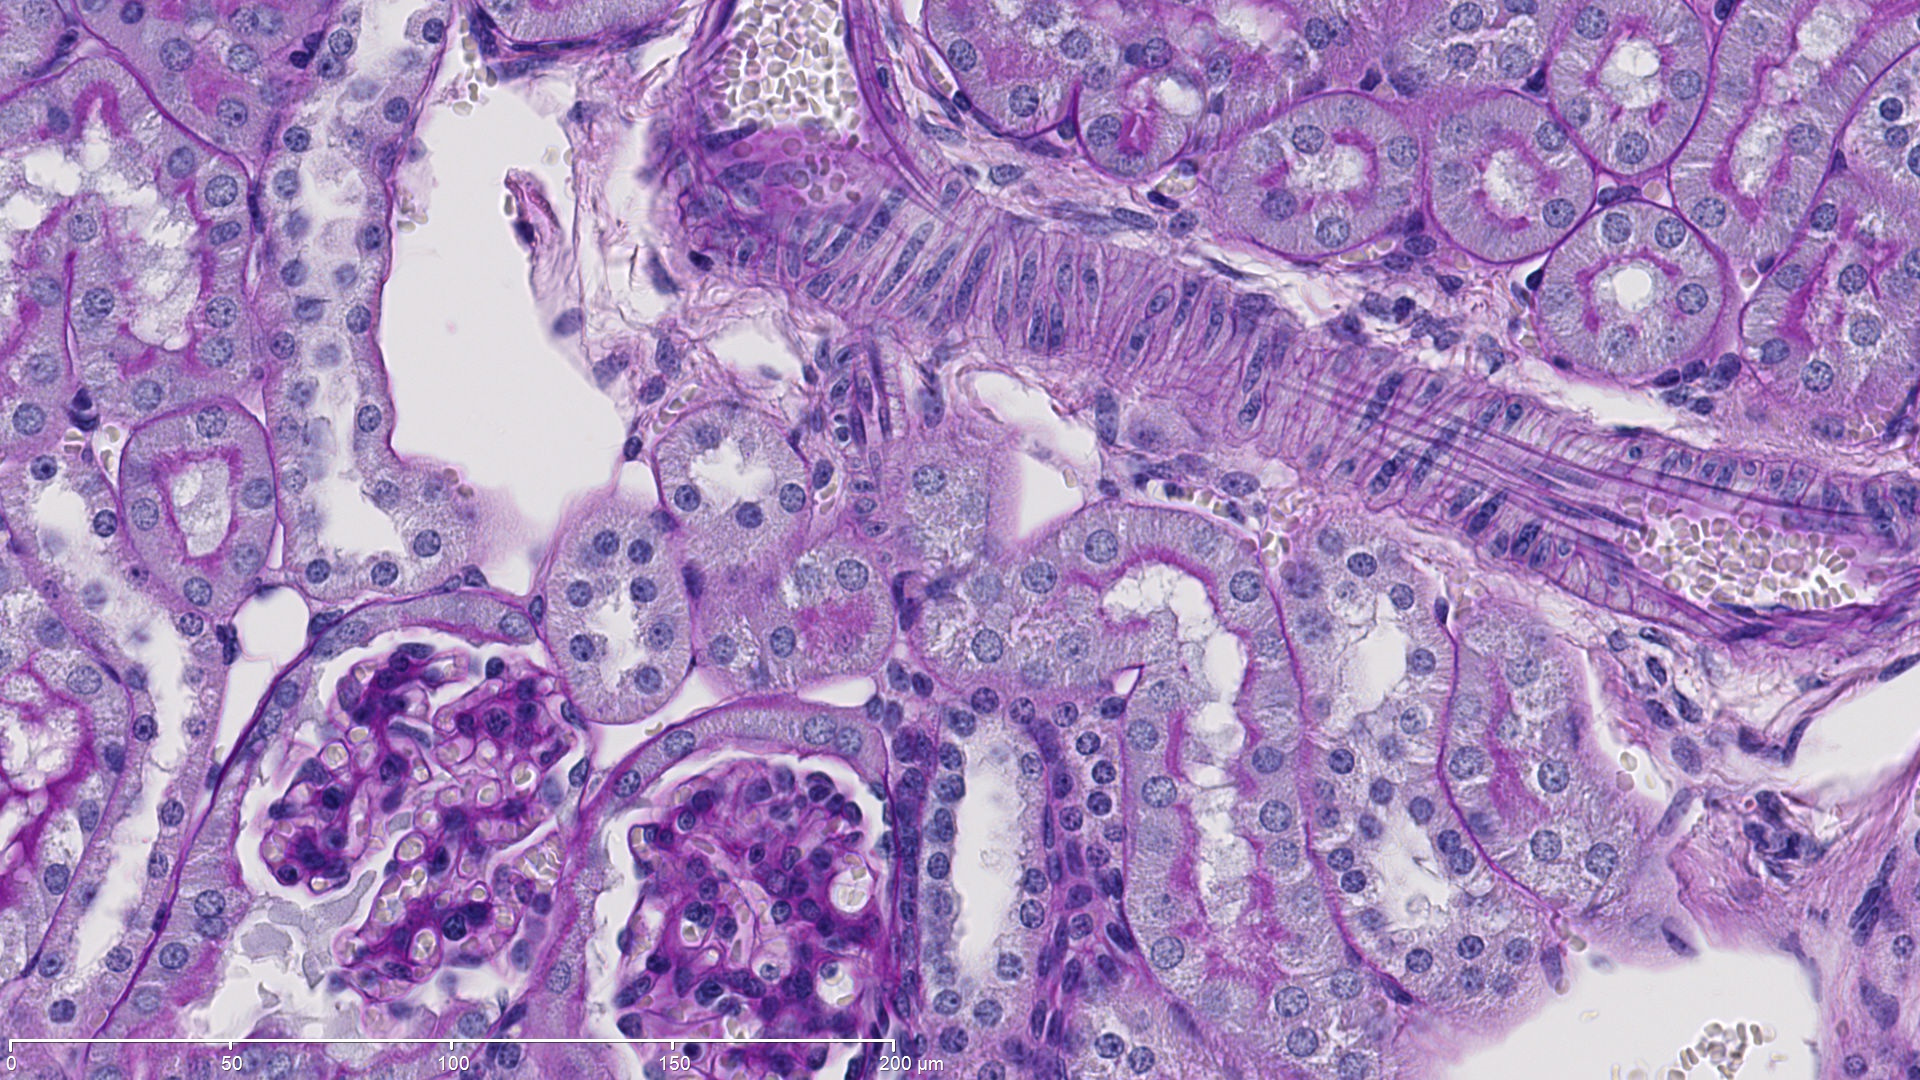Glomeruli: (243, 620, 585, 1007), (605, 742, 891, 1038)
